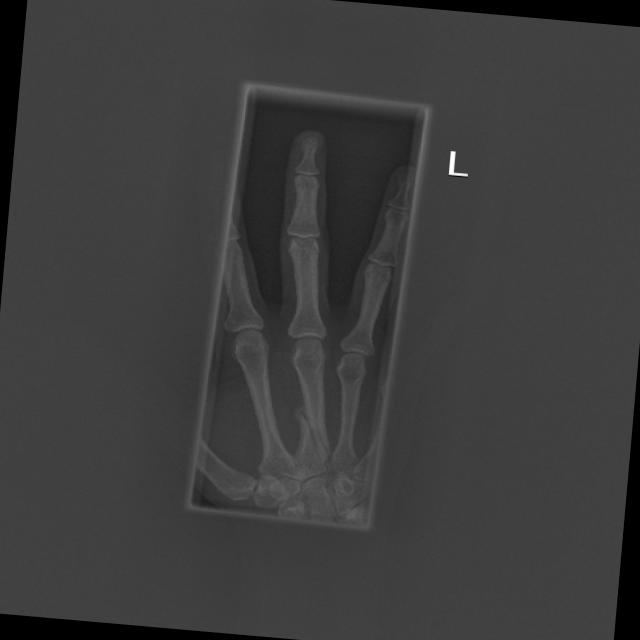fingers positive: (282, 392, 352, 482)
